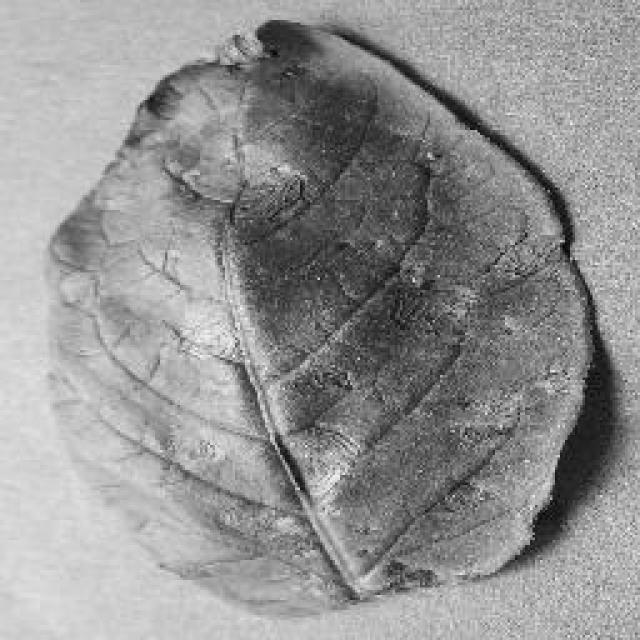Potato: (40, 15, 598, 610)
